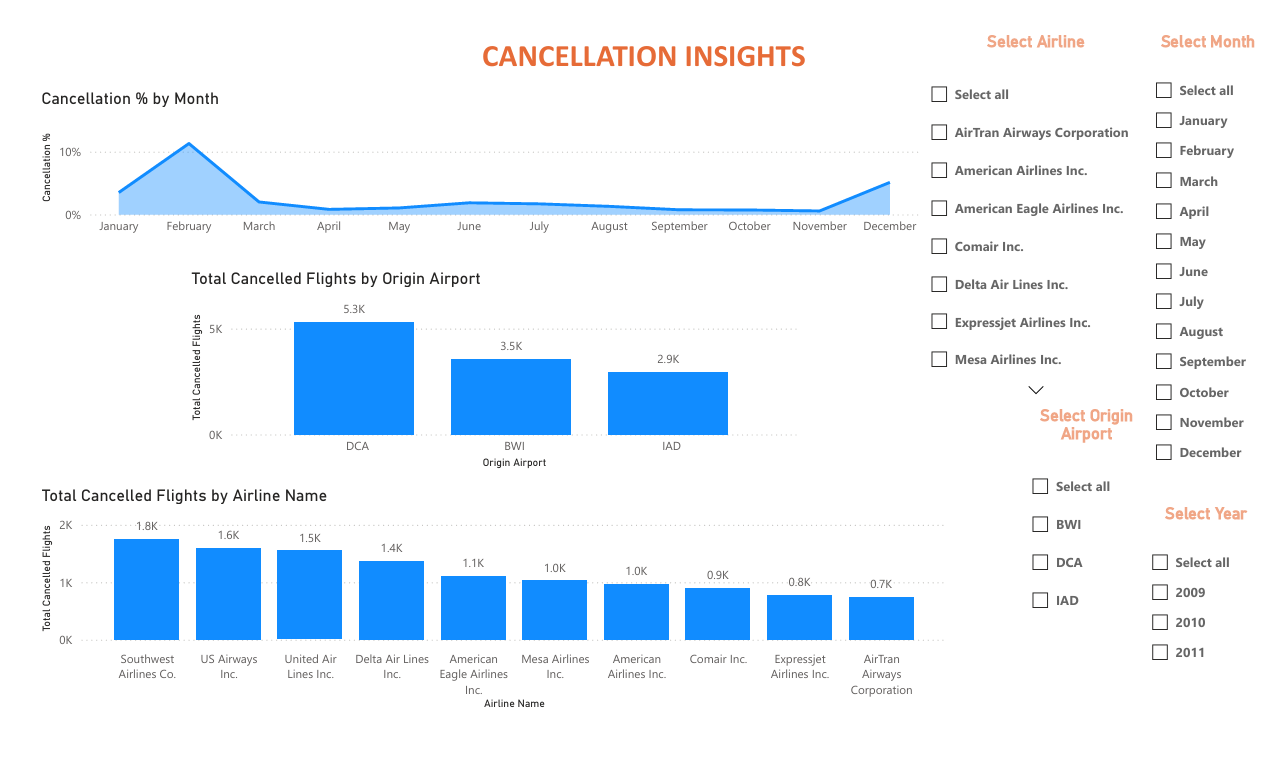

This screenshot's page, from the dashboard's own definition file:
{"tool":"powerbi","page":{"name":"Cancellation Insights","canvas":[1280,720],"ordinal":5},"visuals":[{"type":"textbox","box":[338.6,0,603.2,58.4],"z":0},{"type":"listSlicer","title":"Select Month","fields":{"Values":["FactFlights.Month"]},"box":[1161.1,0,119.4,485.2],"z":1},{"type":"listSlicer","title":"Select Year","fields":{"Values":["FactFlights.Year"]},"box":[1157.2,485.2,123.2,195.9],"z":2},{"type":"listSlicer","title":"Select Airline","fields":{"Values":["dimAirline.Airline Name"]},"box":[930.2,0,227,384],"z":3},{"type":"listSlicer","title":"Select Origin Airport","fields":{"Values":["dimAirport.Origin Airport"]},"box":[1033.9,384,123.2,245.2],"z":4},{"type":"columnChart","fields":{"Category":["dimAirport.Origin Airport"],"Y":["FactFlights.Total Cancelled Flights"]},"box":[169.9,242.6,633.1,211.5],"z":5},{"type":"columnChart","fields":{"Category":["dimAirline.Airline Name"],"Y":["FactFlights.Total Cancelled Flights"]},"box":[15.6,465.7,941.8,236.1],"z":6},{"type":"stackedAreaChart","fields":{"Category":["FactFlights.Month"],"Y":["FactFlights.Cancellation %"]},"box":[15.6,58.4,914.6,159.6],"z":7}]}

Visuals, with their boxes on the page's 1280x720 design canvas (x1, y1, x2, y2). These are canvas units, not pixel positions in the 1263x762 screenshot, which may show the page scaled, cropped or inside an application window:
textbox: (x1=339, y1=0, x2=942, y2=58)
"Select Month" listSlicer: (x1=1161, y1=0, x2=1280, y2=485)
"Select Year" listSlicer: (x1=1157, y1=485, x2=1280, y2=681)
"Select Airline" listSlicer: (x1=930, y1=0, x2=1157, y2=384)
"Select Origin Airport" listSlicer: (x1=1034, y1=384, x2=1157, y2=629)
columnChart - dimAirport.Origin Airport x FactFlights.Total Cancelled Flights: (x1=170, y1=243, x2=803, y2=454)
columnChart - dimAirline.Airline Name x FactFlights.Total Cancelled Flights: (x1=16, y1=466, x2=957, y2=702)
stackedAreaChart - FactFlights.Month x FactFlights.Cancellation %: (x1=16, y1=58, x2=930, y2=218)
